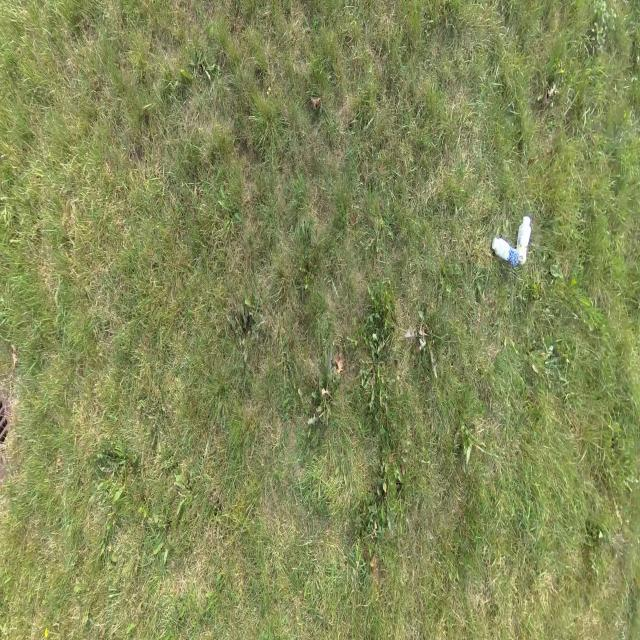rubbish: (515, 215, 533, 265), (492, 234, 518, 267)
